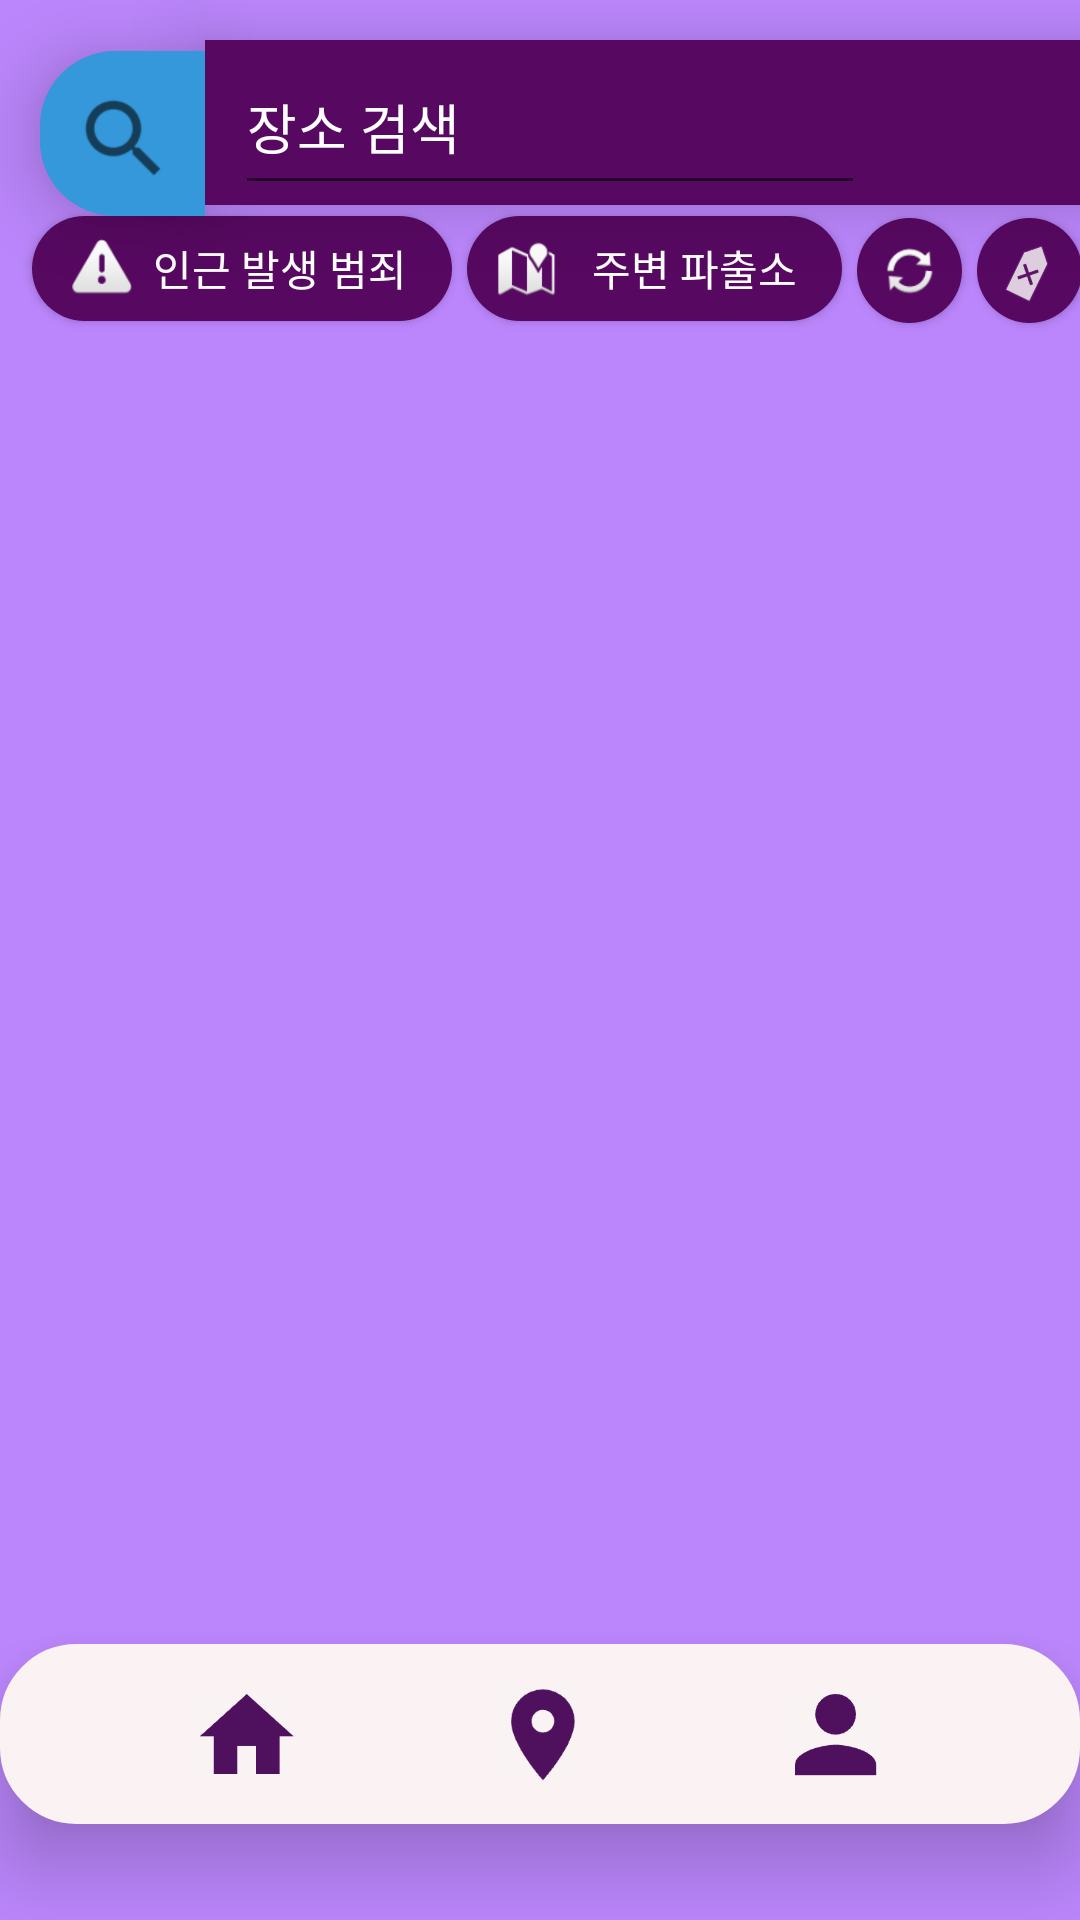

Icons on this 1080*1920 Android screen, each with its box as (x1, y1, x2, y2):
alert: (72, 239, 132, 294)
map: (498, 242, 555, 295)
popup sync: (887, 248, 933, 294)
